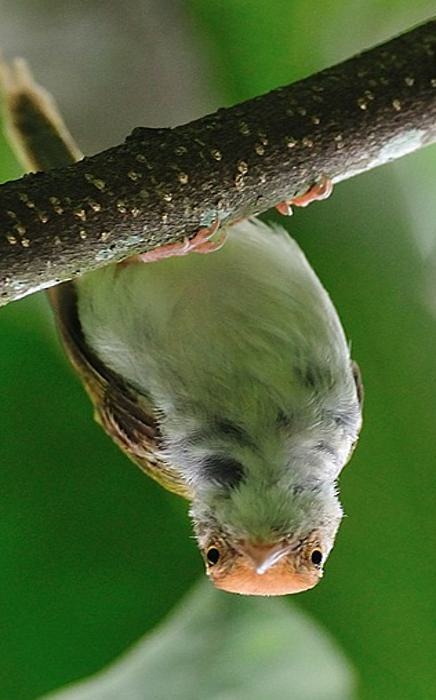tailorbird: (19, 155, 374, 608)
